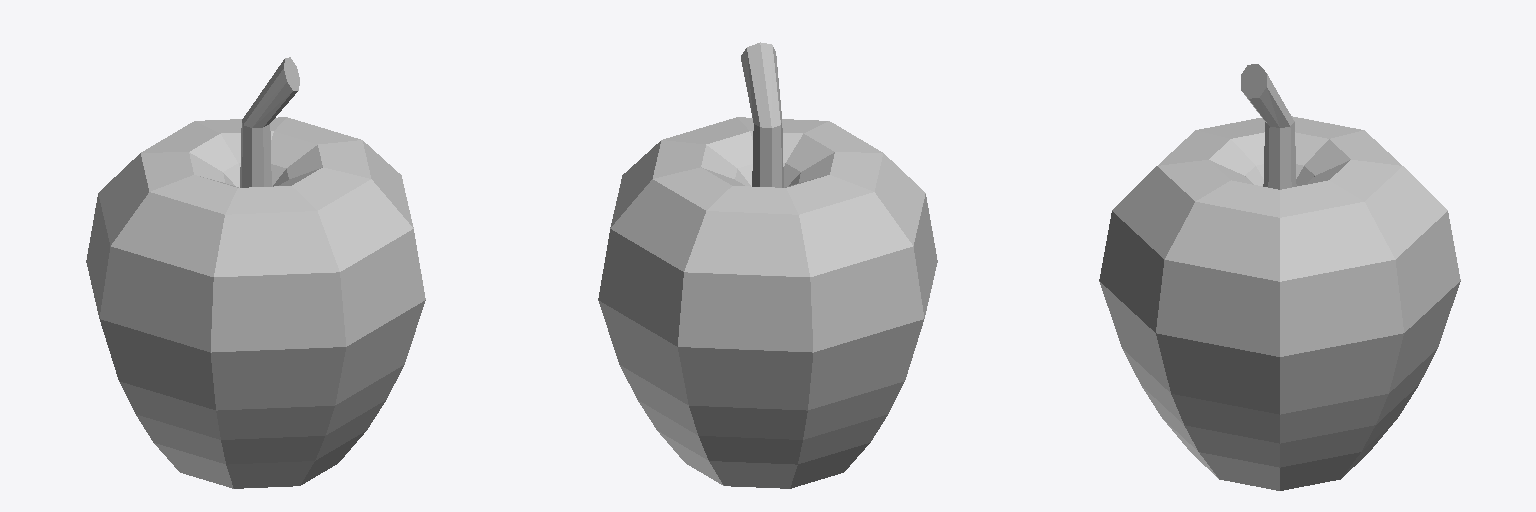
Rendered from Apple.obj.
The picture shows the model from 3 angles: view 1: azimuth 30°, elevation 25°; view 2: azimuth 150°, elevation 25°; view 3: azimuth 270°, elevation 25°; orthographic projection.
Visible parts, largest first — view 1: pCube2; view 2: pCube2; view 3: pCube2.
Boxes of the visible parts, box(x1,y1,x2,y2) form: pCube2: box(86, 57, 425, 488); pCube2: box(598, 42, 937, 488); pCube2: box(1099, 64, 1460, 490).
Bounding box in the file's own units: 9.76 × 12 × 9.76.